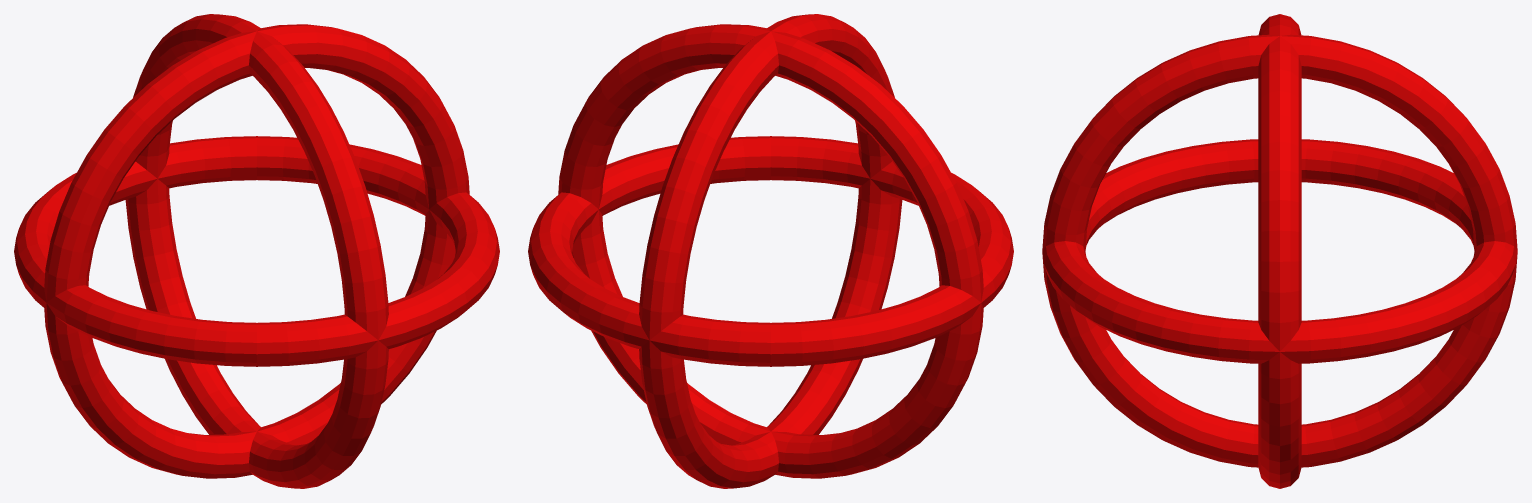
The model's file is chosen3d.fbx.
3 renders of one model, left to right at view 1: azimuth 30°, elevation 25°; view 2: azimuth 150°, elevation 25°; view 3: azimuth 270°, elevation 25°, orthographic. The views are drawn at different scales.
Visible parts, largest first — view 1: Torus.001, Torus, Torus.002; view 2: Torus.001, Torus, Torus.002; view 3: Torus, Torus.002, Torus.001.
Boxes of the visible parts, <box> form: Torus.001: <box>44,24,469,478</box>; Torus: <box>125,14,388,488</box>; Torus.002: <box>14,136,499,366</box>; Torus.001: <box>558,24,983,478</box>; Torus: <box>639,14,902,488</box>; Torus.002: <box>528,136,1013,366</box>; Torus: <box>1042,34,1517,467</box>; Torus.002: <box>1042,139,1517,363</box>; Torus.001: <box>1258,14,1301,488</box>.
Bounding box in the file's own units: 6.6 × 6.6 × 6.6.
